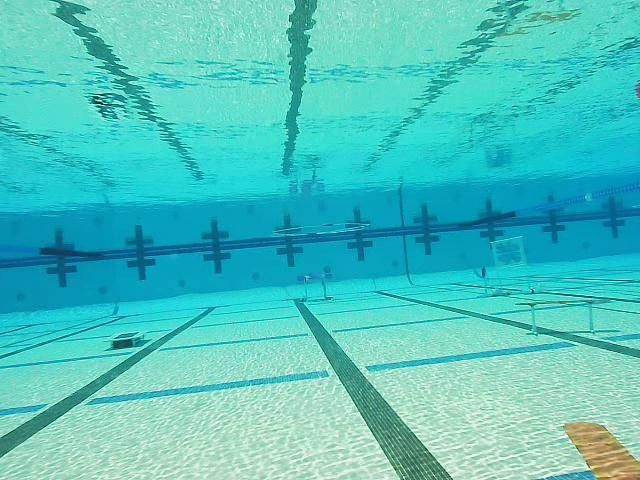table: (295, 273, 334, 304)
torpedo: (492, 235, 526, 269)
